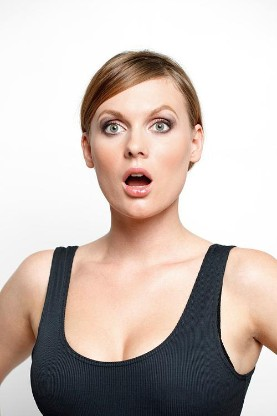张嘴: (120, 165, 153, 199)
